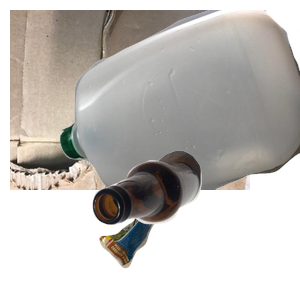cardboard: (10, 10, 250, 190)
glass: (90, 148, 300, 300)
plastic: (60, 10, 300, 190)
trash: (97, 151, 283, 300)
